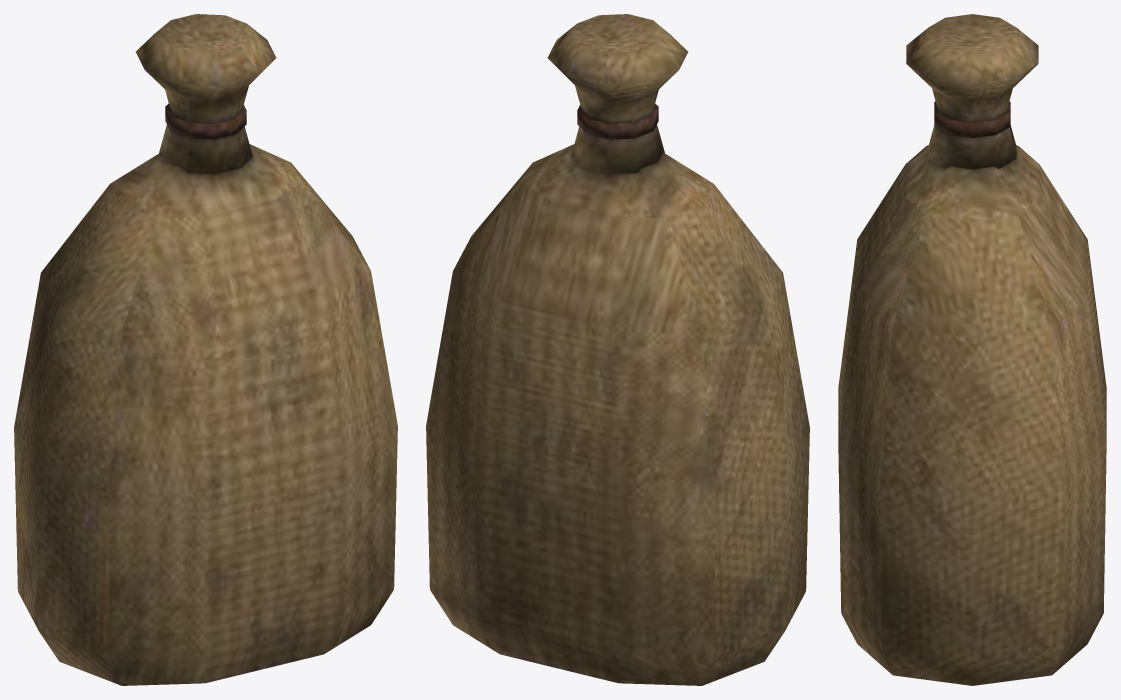
The model's file is sack_lod1_web.glb.
3 renders of one model, left to right at view 1: azimuth 30°, elevation 25°; view 2: azimuth 150°, elevation 25°; view 3: azimuth 270°, elevation 25°, orthographic.
Parts seen in each view (by area): view 1: Sack_Body; view 2: Sack_Body; view 3: Sack_Body.
Part boxes in pixels (x1=…): Sack_Body: x1=14, y1=14, x2=397, y2=685; Sack_Body: x1=426, y1=14, x2=809, y2=685; Sack_Body: x1=838, y1=14, x2=1106, y2=685.
Size of the model in its own units: 0.5 by 0.83 by 0.3464.
Materials: 1 (1 with a texture image).
